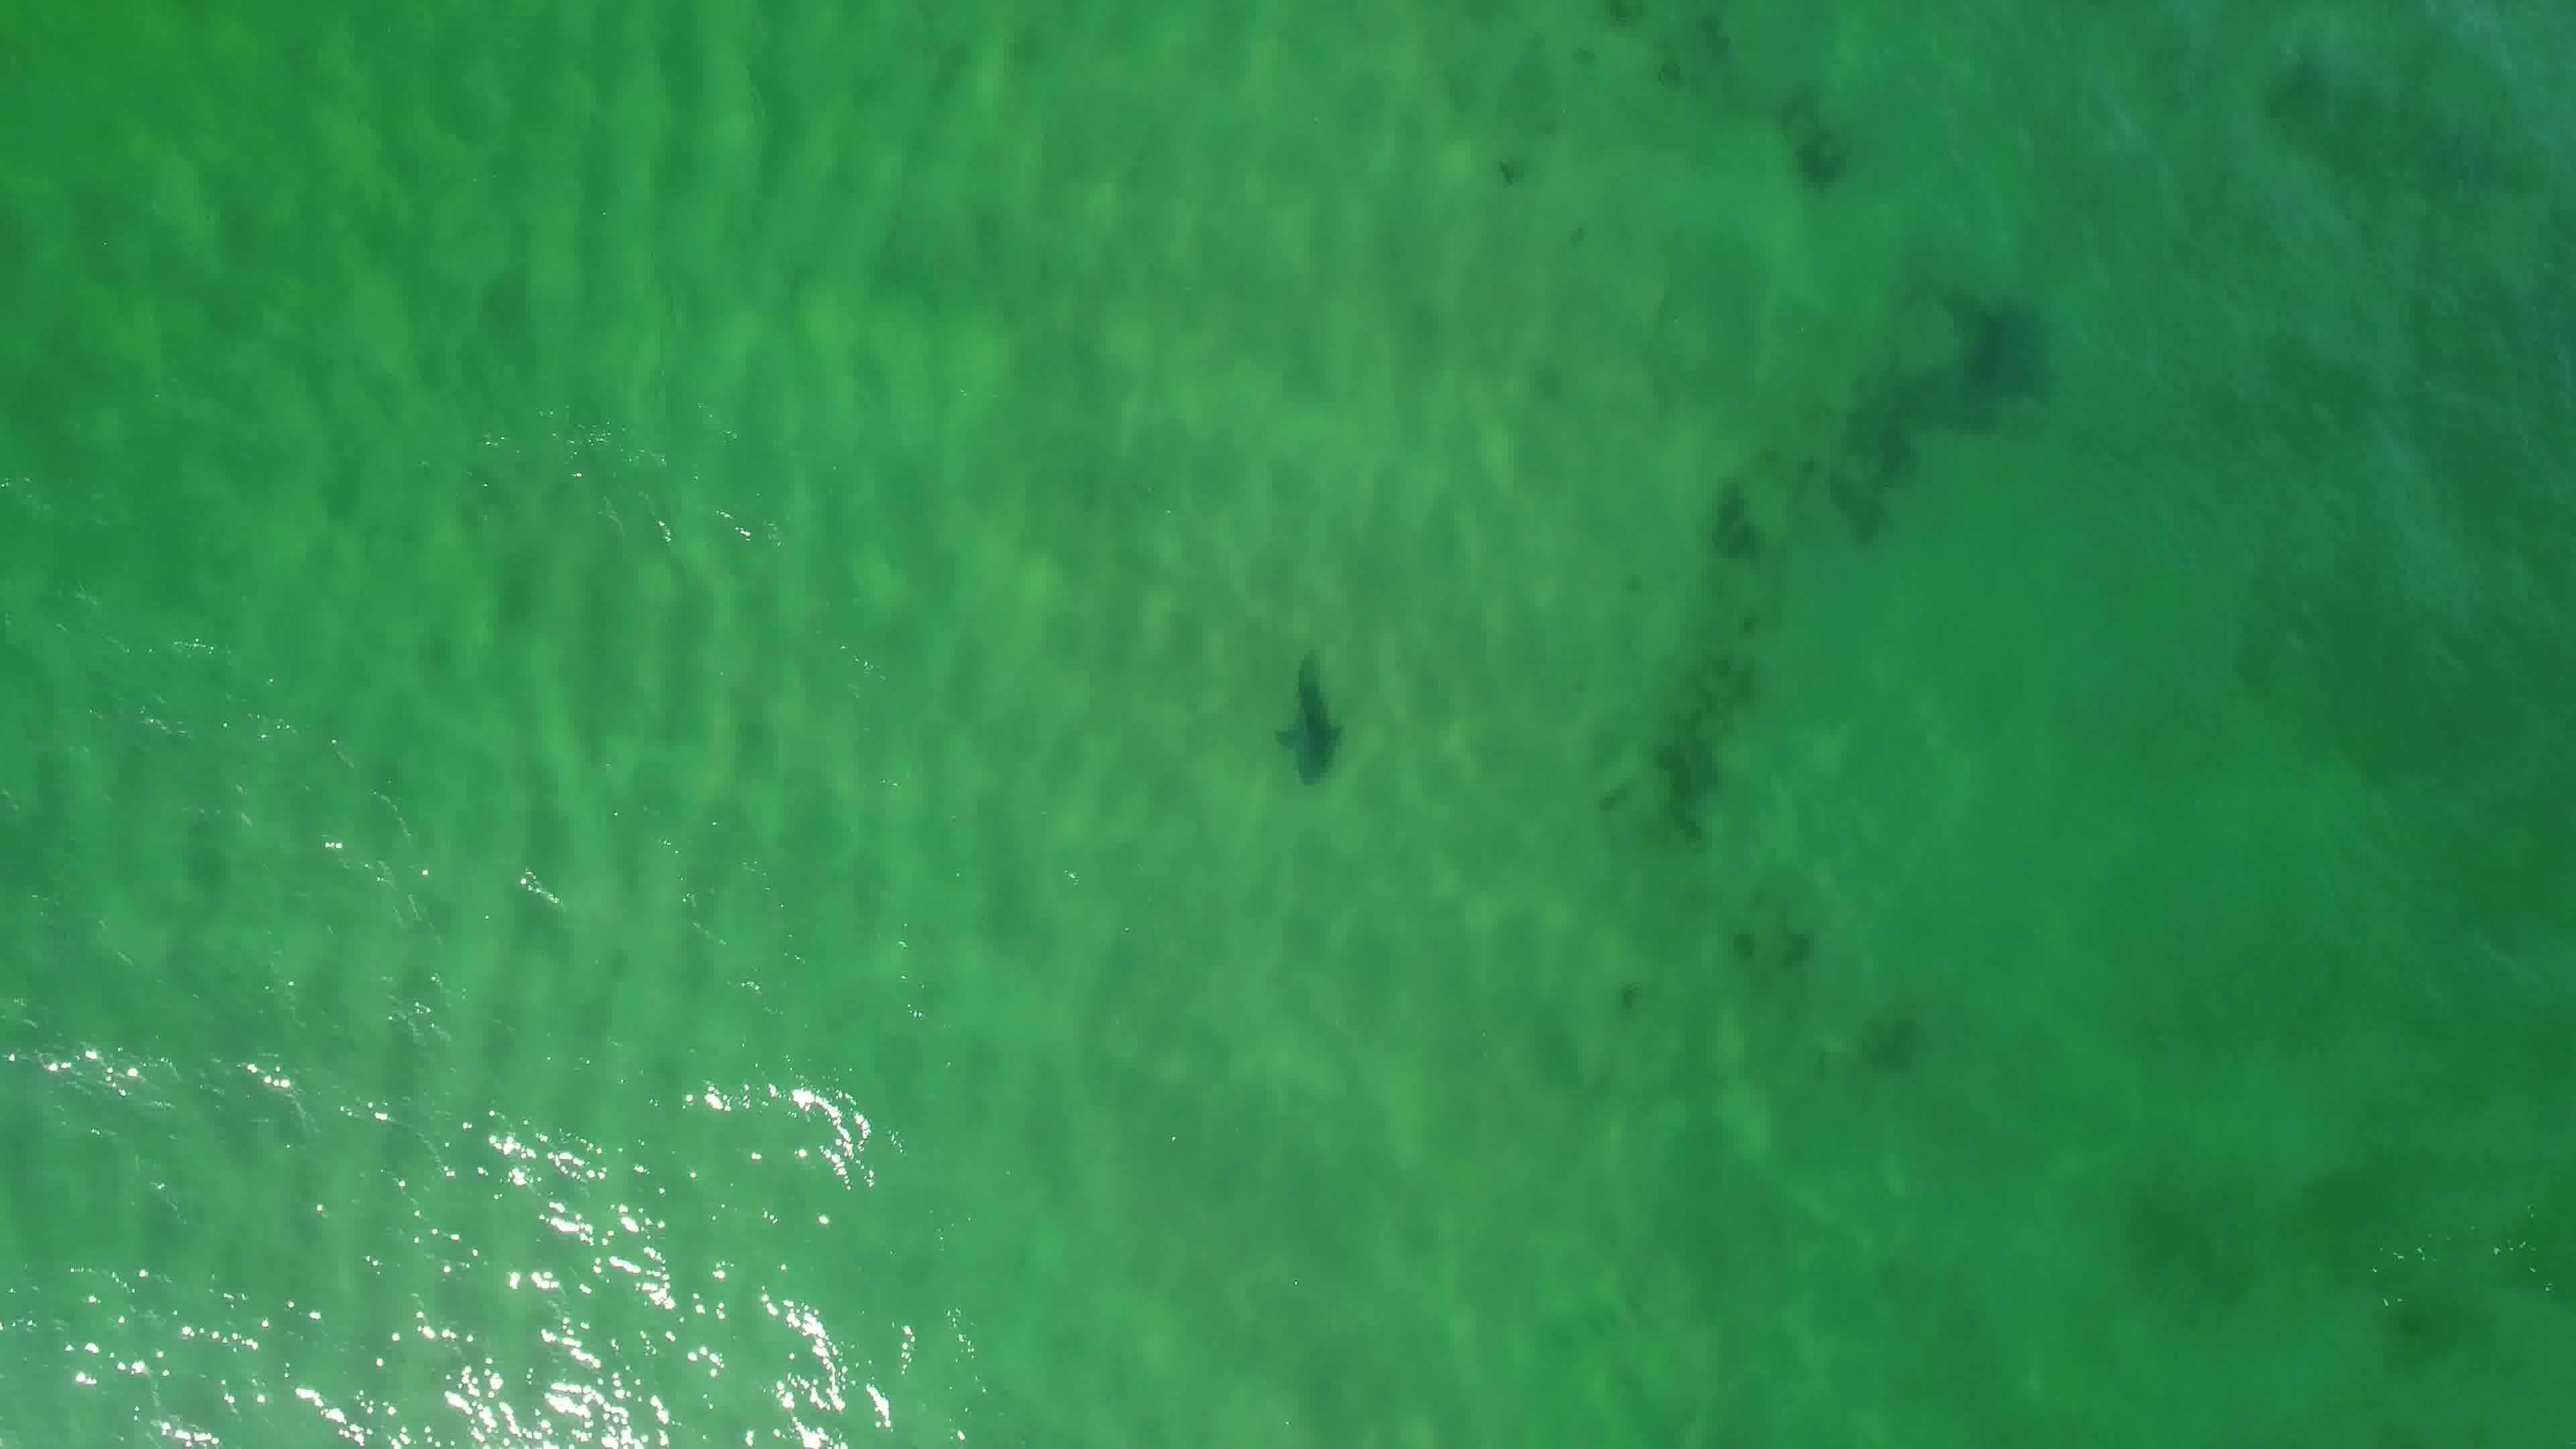shark: (1269, 642, 1350, 786)
